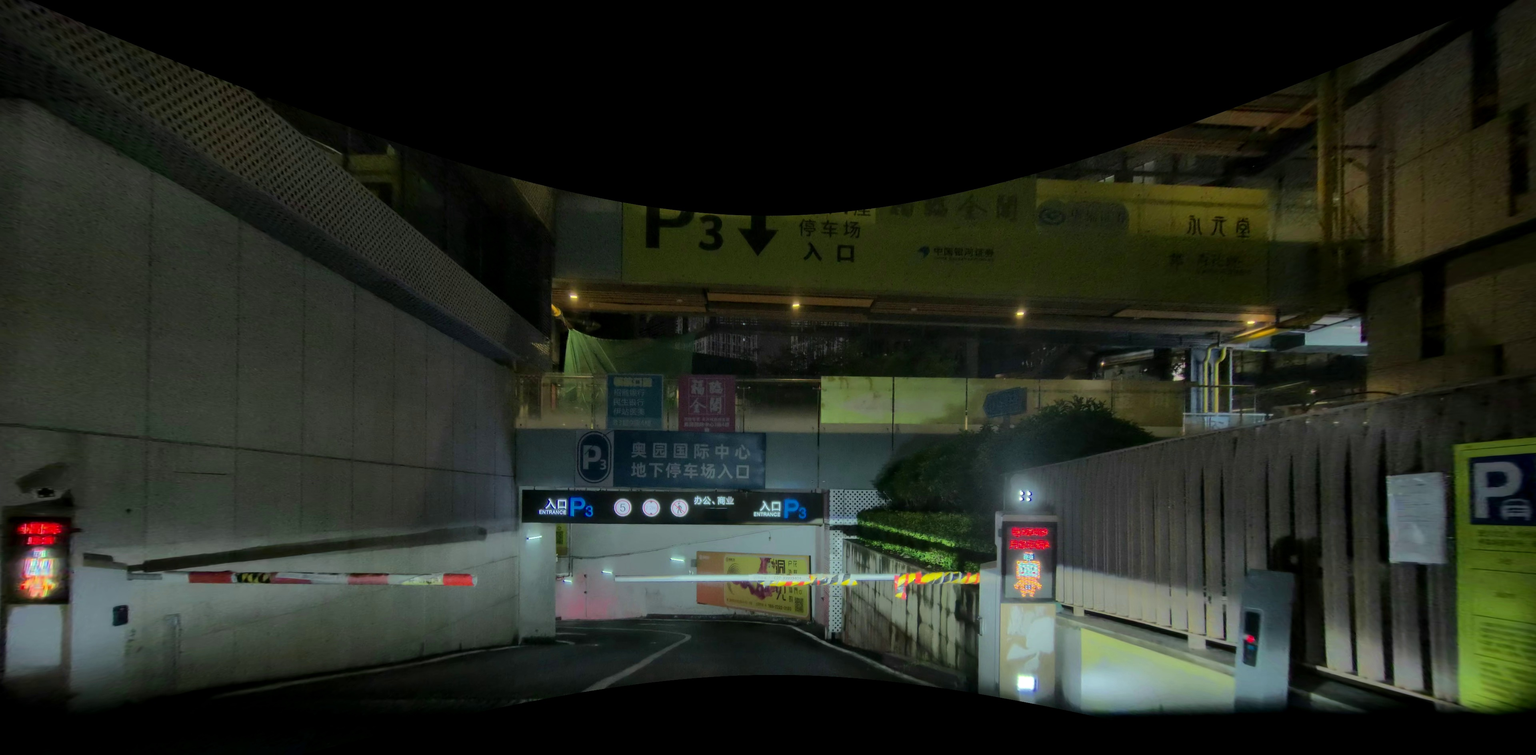5: (615, 500, 629, 515)
ENTERANCE: (538, 509, 568, 516)
ENTRANCE: (753, 511, 781, 517)
P: (1468, 460, 1522, 521)
P3: (640, 208, 724, 255), (582, 444, 607, 471), (784, 499, 808, 520), (570, 496, 594, 516)
tollgates: (129, 565, 482, 587), (612, 571, 981, 587)
下: (736, 213, 779, 256)
中国银河证券: (932, 244, 996, 258)
停车场入口: (797, 219, 862, 265)
入口: (630, 441, 751, 481), (796, 217, 863, 266), (537, 497, 568, 516), (753, 498, 782, 518), (544, 497, 566, 509), (757, 499, 781, 510)
办公、商业: (693, 495, 734, 505)
奥园国际中心 地下停车场入口: (630, 441, 750, 481)
招商银行 民生银行 伊站医美: (613, 386, 644, 416)
永元堂: (1182, 212, 1253, 242)
福临全阁: (686, 378, 726, 413)
